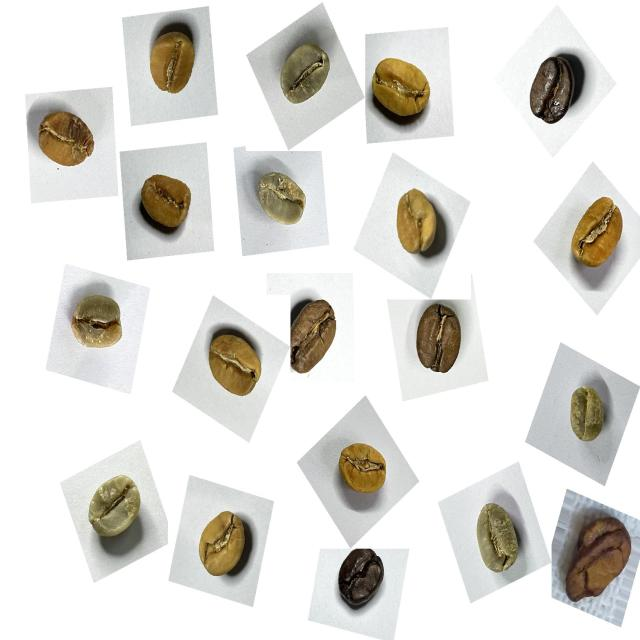bad: (557, 504, 640, 612)
dark: (518, 41, 594, 136), (330, 542, 396, 618)
green: (75, 463, 154, 557), (269, 31, 342, 121), (461, 493, 531, 585), (61, 281, 135, 367), (246, 162, 317, 242), (556, 376, 616, 455)
light: (559, 185, 634, 283), (361, 46, 440, 138), (196, 318, 269, 412), (29, 101, 106, 187), (140, 13, 209, 106), (190, 502, 262, 590), (384, 180, 453, 270), (130, 165, 203, 248), (328, 429, 396, 510)
medium: (280, 290, 350, 388), (405, 297, 476, 387)
